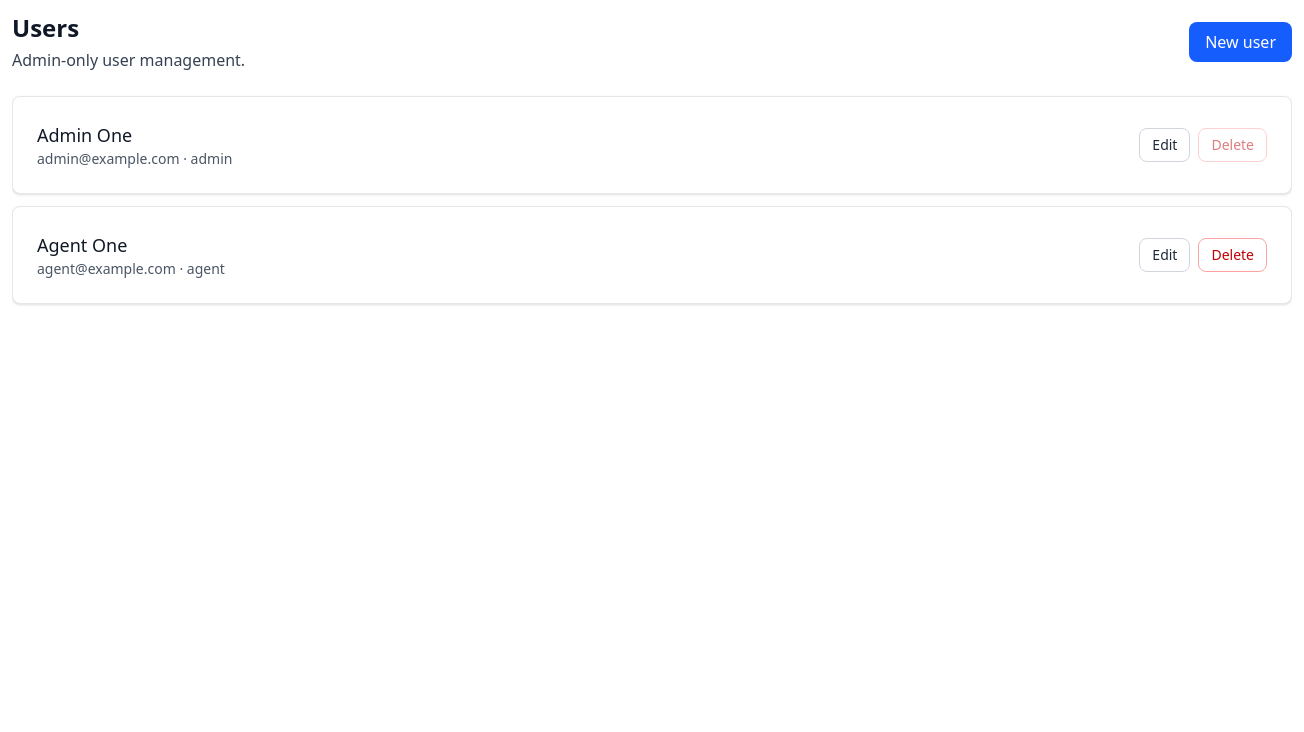
Test: UsersPage › lists users and opens create form
This screenshot has width=1304, height=732.
Expected: the heading "Users" is shown, x1=12 y1=11 x2=79 y2=44
Expected: the text "Agent One" is shown, x1=37 y1=233 x2=127 y2=257
Click the button "New user": (1241, 42) x1=1189 y1=22 x2=1292 y2=62
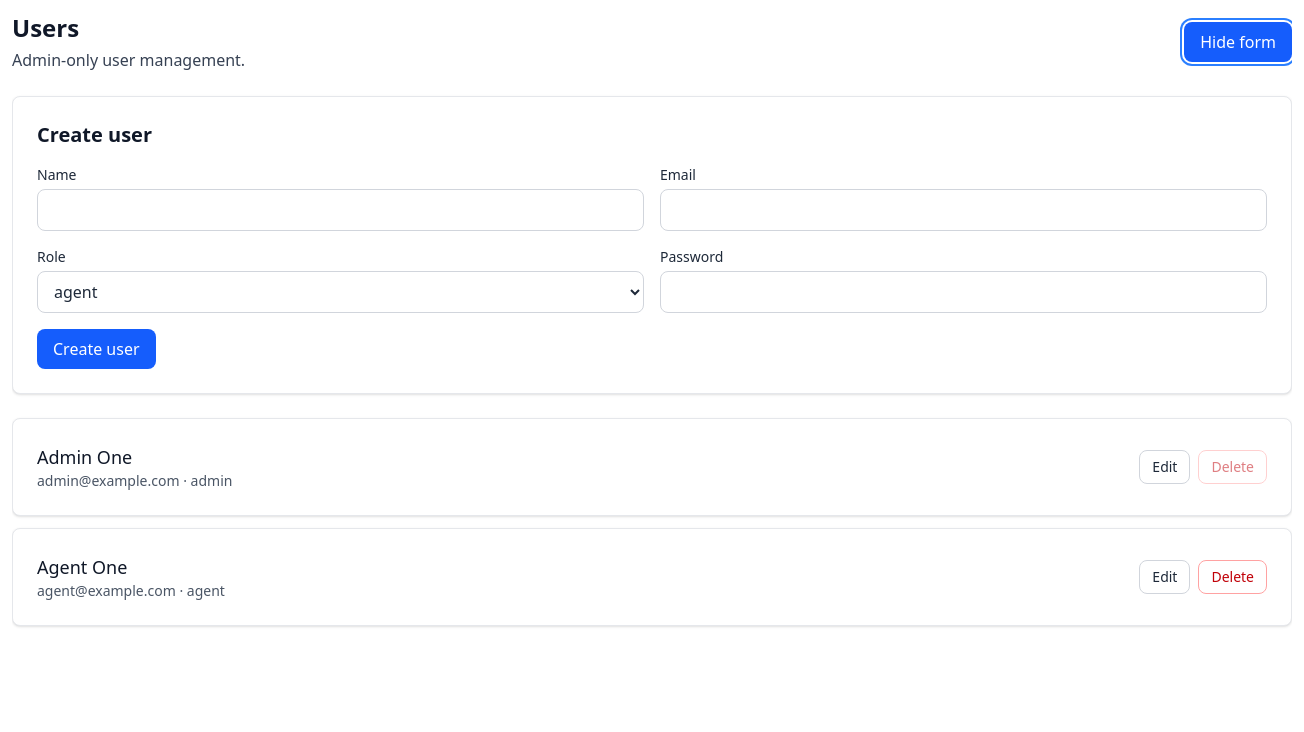
Now the heading "Create user" is shown, box x1=37 y1=121 x2=152 y2=148
